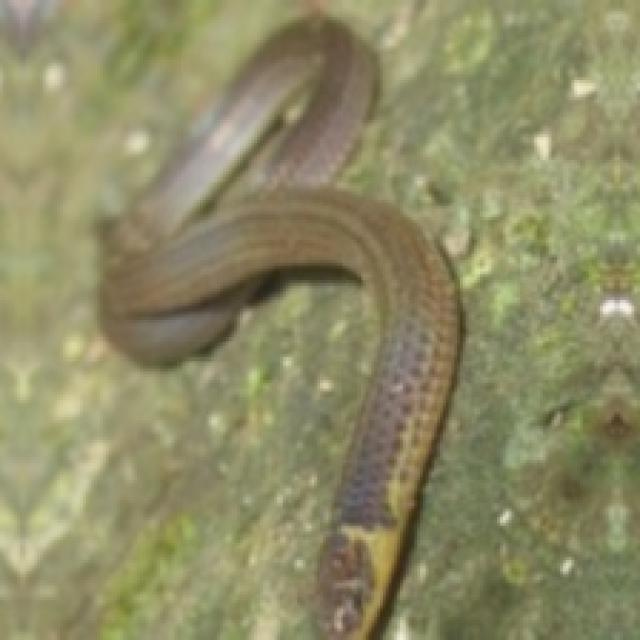gervais worm snake: (100, 17, 460, 637)
